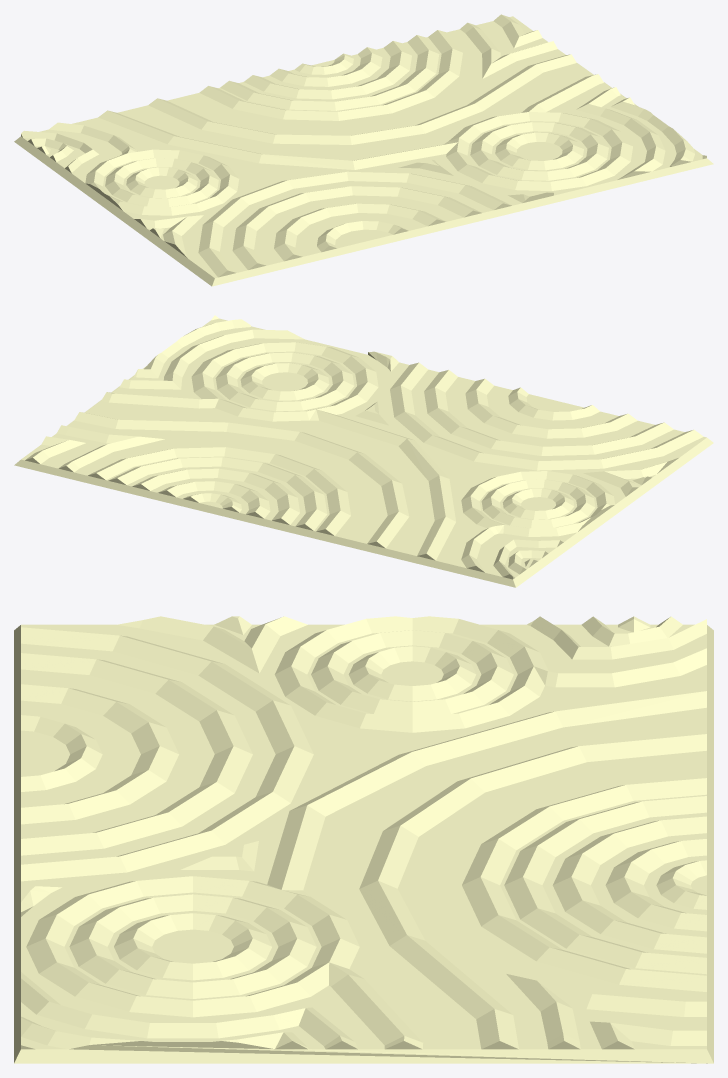
Rendered from Asian_Prop_Zen_Garden_Sand_01.FBX.
3 renders of one model, top to bottom at view 1: azimuth 30°, elevation 25°; view 2: azimuth 150°, elevation 25°; view 3: azimuth 270°, elevation 25°, orthographic. The views are drawn at different scales.
Parts seen in each view (by area): view 1: Asian_Prop_Zen_Garden_Sand_01; view 2: Asian_Prop_Zen_Garden_Sand_01; view 3: Asian_Prop_Zen_Garden_Sand_01.
Part boxes in pixels (left/top/right/bottom): Asian_Prop_Zen_Garden_Sand_01: left=14, top=14, right=713, bottom=286; Asian_Prop_Zen_Garden_Sand_01: left=14, top=315, right=713, bottom=587; Asian_Prop_Zen_Garden_Sand_01: left=14, top=616, right=713, bottom=1063.
Size of the model in its own units: 10016 by 199 by 6840.
